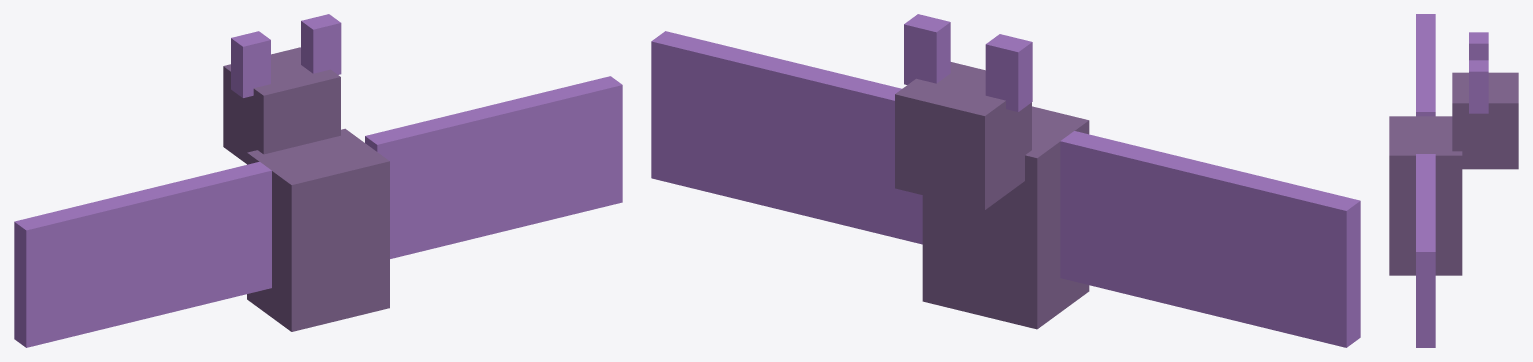
Rendered from bat.glb.
The picture shows the model from 3 angles, left to right: view 1: azimuth 30°, elevation 25°; view 2: azimuth 150°, elevation 25°; view 3: azimuth 270°, elevation 25°; orthographic projection. The views are drawn at different scales.
Parts seen in each view (by area): view 1: bt_wingL, bt_wingR, bt_body, bt_head, bt_earL, bt_earR; view 2: bt_wingL, bt_wingR, bt_body, bt_head, bt_earL, bt_earR; view 3: bt_body, bt_head, bt_wingR, bt_wingL, bt_earR, bt_earL.
Boxes of the visible parts, x1,y1,x2,y2 form: bt_wingL: (14,161,271,347); bt_wingR: (365,76,622,258); bt_body: (247,128,389,331); bt_head: (223,47,340,163); bt_earL: (231,31,270,97); bt_earR: (301,14,341,74); bt_wingL: (1060,131,1360,347); bt_wingR: (651,31,922,244); bt_body: (922,106,1089,329); bt_head: (895,62,1031,210); bt_earL: (985,34,1032,111); bt_earR: (904,14,950,84); bt_body: (1389,116,1462,275); bt_head: (1452,72,1518,169); bt_wingR: (1416,154,1435,347); bt_wingL: (1416,14,1435,116); bt_earR: (1469,60,1488,113); bt_earL: (1469,32,1488,60).
Bounding box in the file's own units: 1.7 × 0.68 × 0.39.
